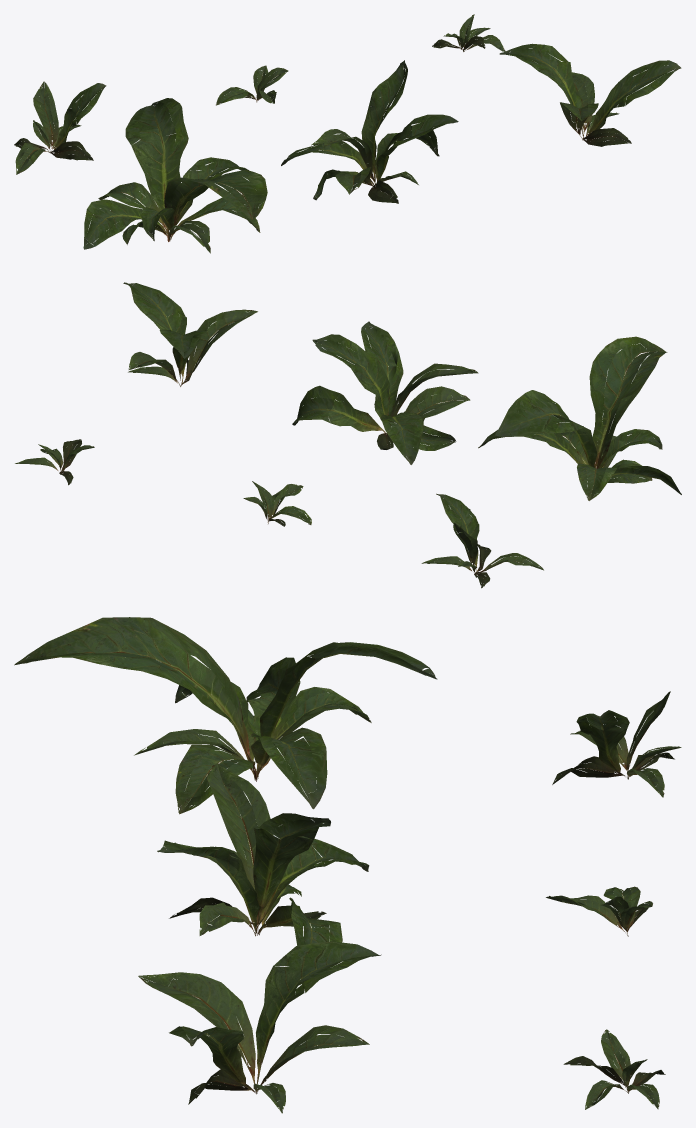
File: anthurium_botany_01.glb
The picture shows the model from 3 angles, top to bottom: view 1: azimuth 30°, elevation 25°; view 2: azimuth 150°, elevation 25°; view 3: azimuth 270°, elevation 25°; orthographic projection. The views are drawn at different scales.
Visible parts, largest first — view 1: anthurium_botany_01_a, anthurium_botany_01_b, anthurium_botany_01_c, anthurium_botany_04_d, anthurium_botany_05_e, anthurium_botany_06_f; view 2: anthurium_botany_01_a, anthurium_botany_01_b, anthurium_botany_01_c, anthurium_botany_04_d, anthurium_botany_05_e, anthurium_botany_06_f; view 3: anthurium_botany_01_a, anthurium_botany_01_b, anthurium_botany_01_c, anthurium_botany_04_d, anthurium_botany_06_f, anthurium_botany_05_e.
Part boxes in pixels (bbox=[...]): anthurium_botany_01_a: bbox=[83, 98, 267, 253]; anthurium_botany_01_b: bbox=[281, 60, 458, 203]; anthurium_botany_01_c: bbox=[499, 43, 681, 146]; anthurium_botany_04_d: bbox=[14, 81, 106, 174]; anthurium_botany_05_e: bbox=[216, 65, 288, 105]; anthurium_botany_06_f: bbox=[432, 14, 505, 51]; anthurium_botany_01_a: bbox=[478, 336, 681, 500]; anthurium_botany_01_b: bbox=[292, 321, 478, 464]; anthurium_botany_01_c: bbox=[123, 282, 257, 386]; anthurium_botany_04_d: bbox=[421, 493, 543, 588]; anthurium_botany_05_e: bbox=[243, 481, 311, 526]; anthurium_botany_06_f: bbox=[15, 439, 94, 485]; anthurium_botany_01_a: bbox=[14, 617, 437, 814]; anthurium_botany_01_b: bbox=[157, 763, 369, 983]; anthurium_botany_01_c: bbox=[138, 941, 381, 1113]; anthurium_botany_04_d: bbox=[552, 691, 681, 797]; anthurium_botany_06_f: bbox=[563, 1029, 665, 1109]; anthurium_botany_05_e: bbox=[546, 886, 652, 936].
Size of the model in its own units: 2.79 by 0.4989 by 1.8.
Materials: 1 (1 with a texture image).
